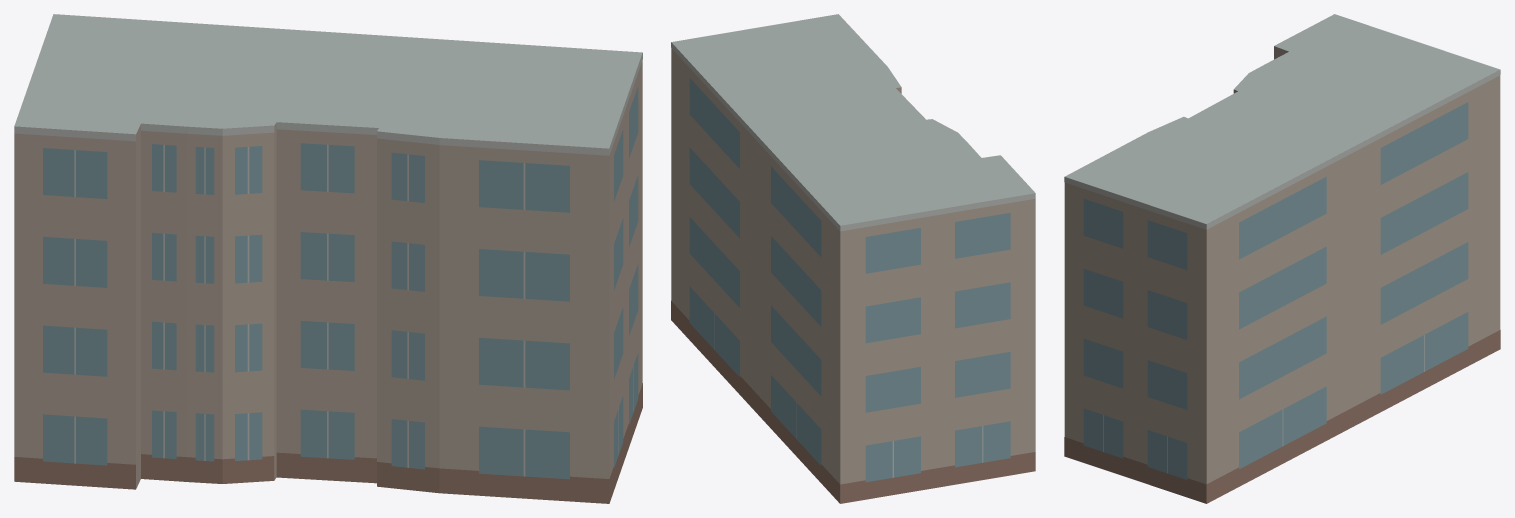
Rendered from survey-upis-32747660.glb.
The picture shows the model from 3 angles, left to right: view 1: azimuth 30°, elevation 25°; view 2: azimuth 150°, elevation 25°; view 3: azimuth 270°, elevation 25°; orthographic projection. The views are drawn at different scales.
Visible parts, largest first — view 1: survey-upis-32747660.tmp; view 2: survey-upis-32747660.tmp; view 3: survey-upis-32747660.tmp.
Boxes of the visible parts, bbox=[...] form: survey-upis-32747660.tmp: bbox=[14, 14, 642, 503]; survey-upis-32747660.tmp: bbox=[671, 14, 1035, 503]; survey-upis-32747660.tmp: bbox=[1064, 14, 1500, 503].
Bounding box in the file's own units: 19.67 × 12.2 × 17.24.
